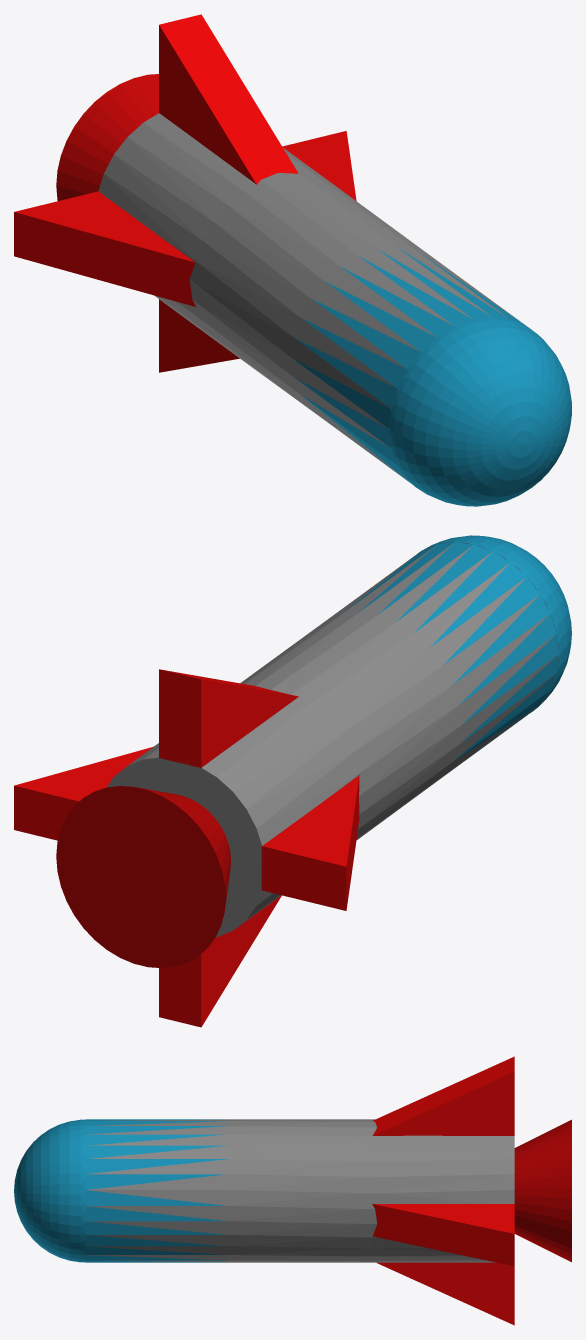
Rendered from missle.fbx.
3 renders of one model, top to bottom at view 1: azimuth 30°, elevation 25°; view 2: azimuth 150°, elevation 25°; view 3: azimuth 270°, elevation 25°, orthographic. The views are drawn at different scales.
Parts seen in each view (by area): view 1: polySurface7, polySurface8, polySurface5, polySurface2, polySurface6, polySurface3, polySurface4; view 2: polySurface7, polySurface6, polySurface2, polySurface5, polySurface3, polySurface4, polySurface8; view 3: polySurface7, polySurface8, polySurface5, polySurface4, polySurface6, polySurface3.
Boxes of the visible parts, x1=… form: polySurface7: x1=98, y1=113, x2=525, y2=484; polySurface8: x1=389, y1=317, x2=571, y2=506; polySurface5: x1=159, y1=14, x2=298, y2=184; polySurface2: x1=14, y1=191, x2=195, y2=306; polySurface6: x1=56, y1=74, x2=158, y2=200; polySurface3: x1=159, y1=299, x2=239, y2=372; polySurface4: x1=282, y1=131, x2=356, y2=200; polySurface7: x1=106, y1=542, x2=558, y2=937; polySurface6: x1=56, y1=786, x2=230, y2=968; polySurface2: x1=261, y1=775, x2=359, y2=910; polySurface5: x1=159, y1=669, x2=298, y2=767; polySurface3: x1=159, y1=895, x2=281, y2=1027; polySurface4: x1=14, y1=746, x2=153, y2=840; polySurface8: x1=422, y1=535, x2=571, y2=710; polySurface7: x1=85, y1=1119, x2=514, y2=1262; polySurface8: x1=14, y1=1119, x2=85, y2=1262; polySurface5: x1=372, y1=1056, x2=514, y2=1135; polySurface4: x1=372, y1=1204, x2=514, y2=1266; polySurface6: x1=514, y1=1119, x2=571, y2=1262; polySurface3: x1=376, y1=1262, x2=514, y2=1325.
Bounding box in the file's own units: 23.67 × 23.67 × 47.1.
